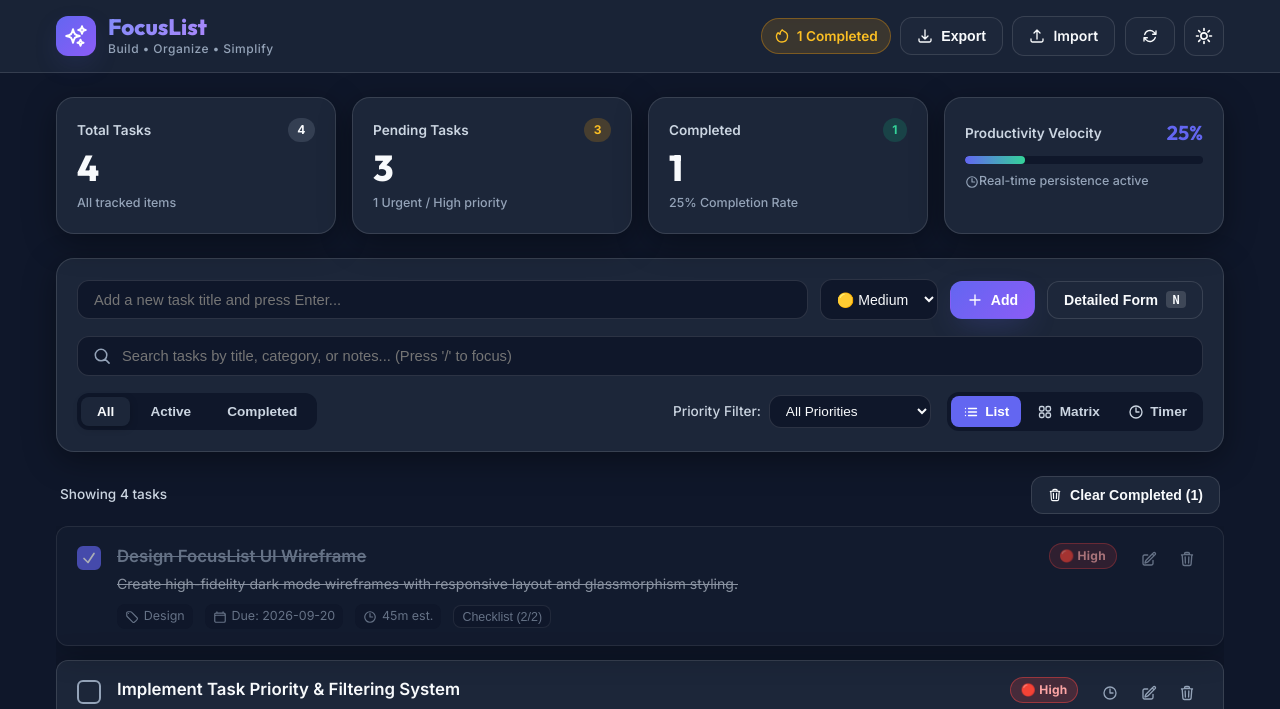
Test: FocusList Main Application UI Integration Tests › filters task list when search query is entered
The image size is (1280, 709).
Replace the text in the field with test id "search-input" with "NonExistentTaskQueryXYZ999" at (640, 356), box [77,336,1203,376]
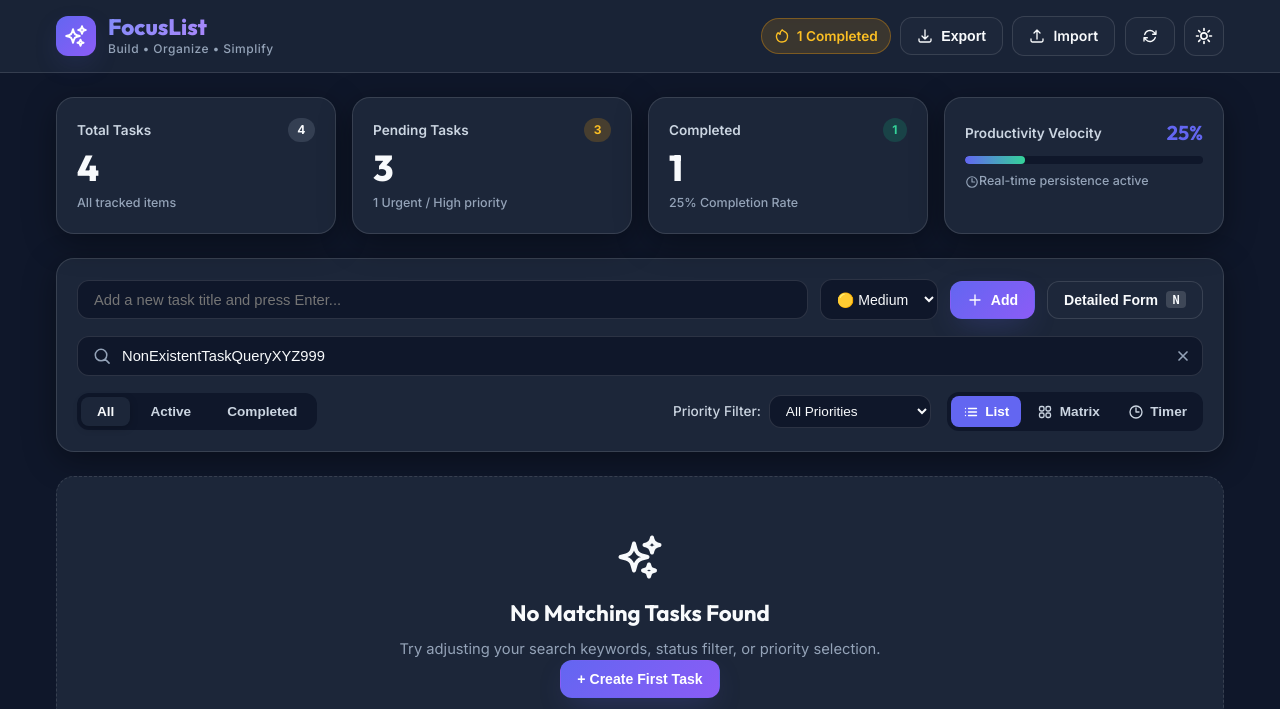
Expected: the heading "No Matching Tasks Found" is shown, [510,597,770,630]
